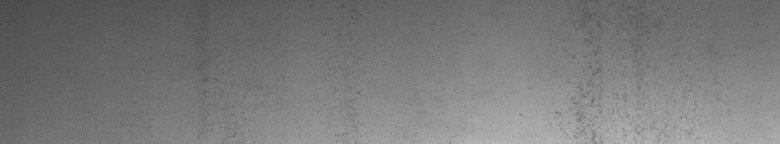ib: (556, 12, 627, 128)
